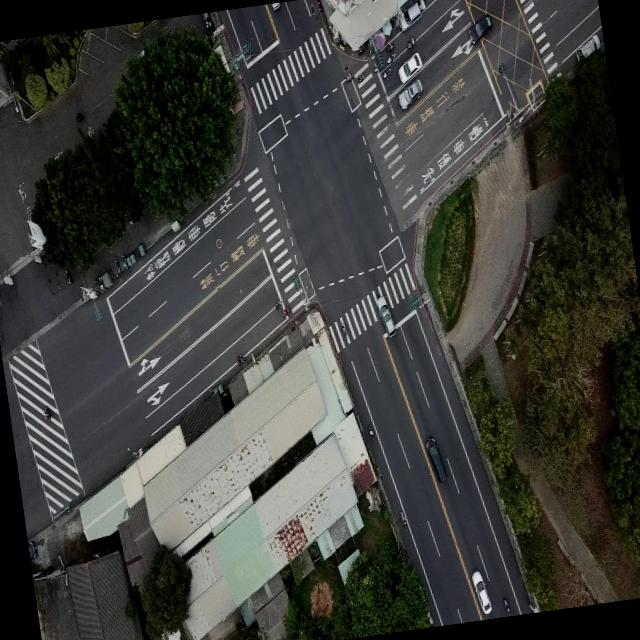bike: (378, 66, 392, 79), (386, 52, 399, 66), (355, 70, 370, 80), (404, 36, 416, 48), (384, 40, 396, 51), (344, 73, 355, 83)
car: (424, 435, 448, 485), (470, 569, 493, 615), (396, 76, 426, 110), (374, 295, 396, 339), (396, 0, 425, 30), (466, 12, 495, 42), (572, 34, 602, 61), (395, 53, 425, 79)
